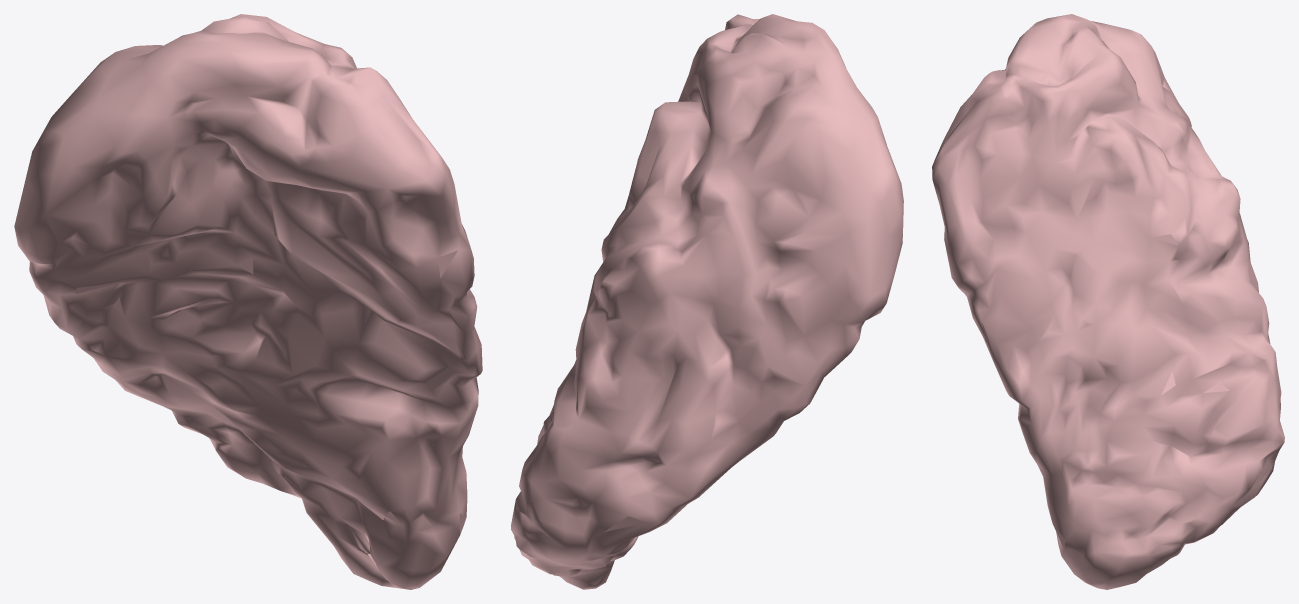
File: 3d-vh-f-palatine-tonsil-l.glb
3 renders of one model, left to right at view 1: azimuth 30°, elevation 25°; view 2: azimuth 150°, elevation 25°; view 3: azimuth 270°, elevation 25°, orthographic. The views are drawn at different scales.
Visible parts, largest first — view 1: VH_F_palatine_tonsil_L; view 2: VH_F_palatine_tonsil_L; view 3: VH_F_palatine_tonsil_L.
Part boxes in pixels (x1=…): VH_F_palatine_tonsil_L: x1=14, y1=14, x2=482, y2=589; VH_F_palatine_tonsil_L: x1=511, y1=14, x2=903, y2=589; VH_F_palatine_tonsil_L: x1=932, y1=14, x2=1284, y2=589.
Bounding box in the file's own units: 0.0163 × 0.0243 × 0.0159.
